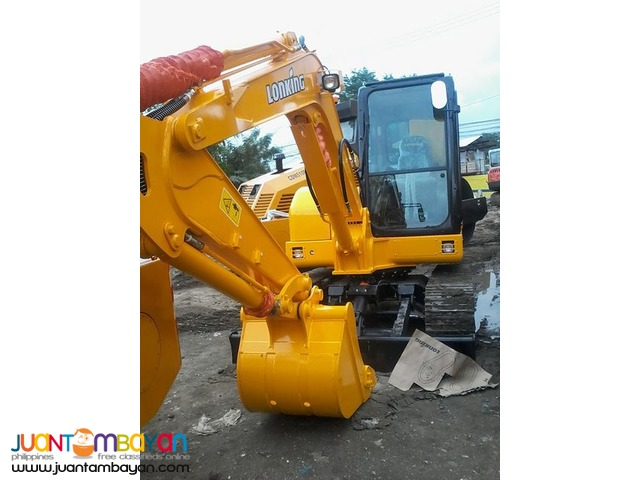backhoe: (139, 22, 501, 427)
